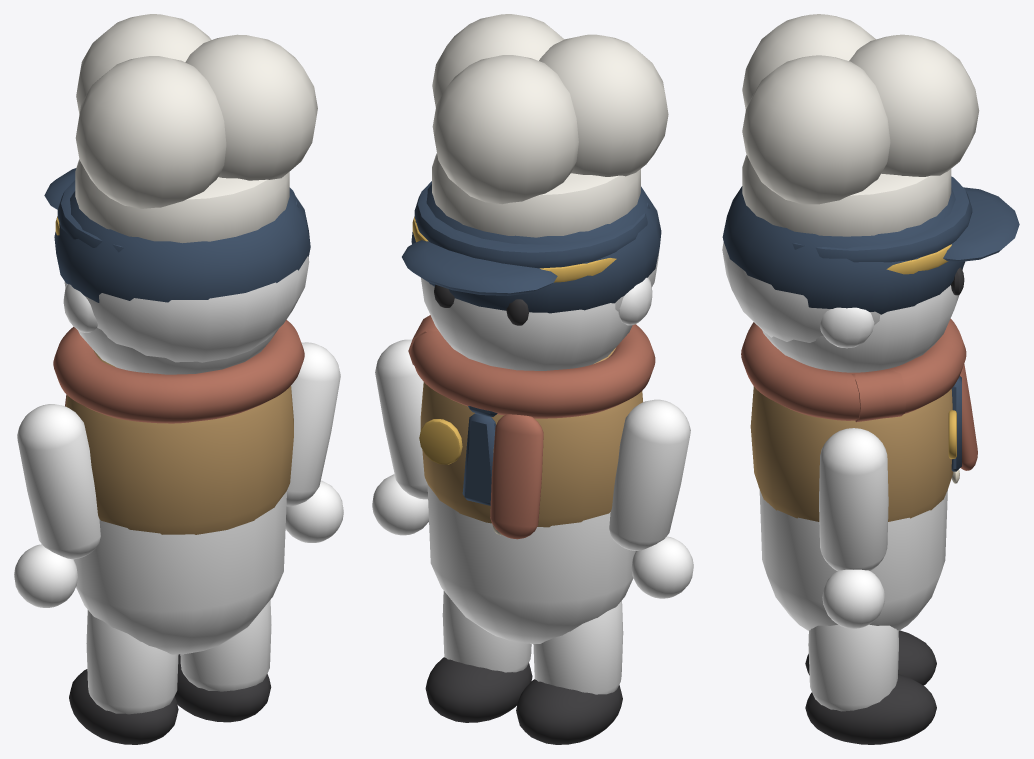
Rendered from person.glb.
The picture shows the model from 3 angles, left to right: view 1: azimuth 30°, elevation 25°; view 2: azimuth 150°, elevation 25°; view 3: azimuth 270°, elevation 25°; orthographic projection. The views are drawn at different scales.
Visible parts, largest first — view 1: sheet_cook, knit_teacher, outfit, navy_guard, outfit_arms, scarf_counsellor, hair, outfit_legs, shoes_legs, skin_arms, skin; view 2: sheet_cook, outfit, navy_guard, scarf_counsellor, outfit_arms, knit_teacher, skin, shoes_legs, outfit_legs, skin_arms, navy_warden, gold_staff (+2 smaller); view 3: sheet_cook, navy_guard, knit_teacher, scarf_counsellor, outfit, outfit_arms, skin, outfit_legs, shoes_legs, hair, skin_arms, gold_warden (+1 smaller).
Boxes of the visible parts, x1=… form: sheet_cook: x1=75, y1=14, x2=317, y2=243; knit_teacher: x1=66, y1=350, x2=293, y2=534; outfit: x1=73, y1=491, x2=286, y2=654; navy_guard: x1=44, y1=168, x2=310, y2=302; outfit_arms: x1=17, y1=342, x2=340, y2=559; scarf_counsellor: x1=53, y1=320, x2=304, y2=423; hair: x1=66, y1=256, x2=309, y2=362; outfit_legs: x1=86, y1=600, x2=271, y2=714; shoes_legs: x1=69, y1=654, x2=271, y2=744; skin_arms: x1=14, y1=480, x2=343, y2=607; skin: x1=63, y1=281, x2=278, y2=374; sheet_cook: x1=432, y1=14, x2=668, y2=237; outfit: x1=427, y1=484, x2=635, y2=643; navy_guard: x1=402, y1=181, x2=661, y2=313; scarf_counsellor: x1=408, y1=315, x2=655, y2=539; outfit_arms: x1=375, y1=339, x2=690, y2=550; knit_teacher: x1=420, y1=348, x2=642, y2=527; skin: x1=421, y1=277, x2=652, y2=370; shoes_legs: x1=425, y1=657, x2=622, y2=744; outfit_legs: x1=442, y1=591, x2=623, y2=694; skin_arms: x1=372, y1=474, x2=693, y2=598; navy_warden: x1=462, y1=406, x2=497, y2=505; gold_staff: x1=419, y1=419, x2=462, y2=464; sheet_cook: x1=742, y1=14, x2=979, y2=236; navy_guard: x1=722, y1=176, x2=1019, y2=314; knit_teacher: x1=750, y1=386, x2=953, y2=521; scarf_counsellor: x1=741, y1=318, x2=977, y2=470; outfit: x1=759, y1=489, x2=947, y2=630; outfit_arms: x1=819, y1=428, x2=888, y2=570; skin: x1=762, y1=269, x2=962, y2=372; outfit_legs: x1=808, y1=624, x2=898, y2=711; shoes_legs: x1=805, y1=630, x2=936, y2=744; hair: x1=722, y1=242, x2=880, y2=342; skin_arms: x1=822, y1=569, x2=884, y2=628; gold_warden: x1=886, y1=244, x2=951, y2=274.
Size of the model in its own units: 0.52 by 1.07 by 0.4266.
